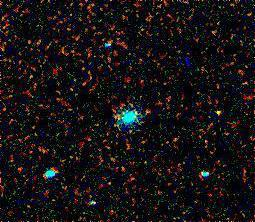star: (206, 97, 236, 127)
